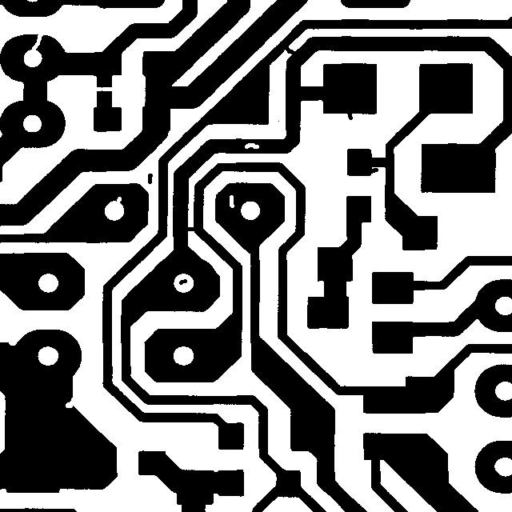copper: (140, 166, 160, 191), (171, 271, 194, 292)
mousebite: (58, 390, 82, 415), (109, 189, 129, 210)
open: (24, 22, 52, 58), (86, 79, 121, 98)
pin-hole: (237, 135, 266, 156), (222, 187, 242, 215)
short: (277, 36, 306, 64), (178, 219, 202, 238)
spur: (339, 103, 360, 127), (362, 160, 386, 181)
